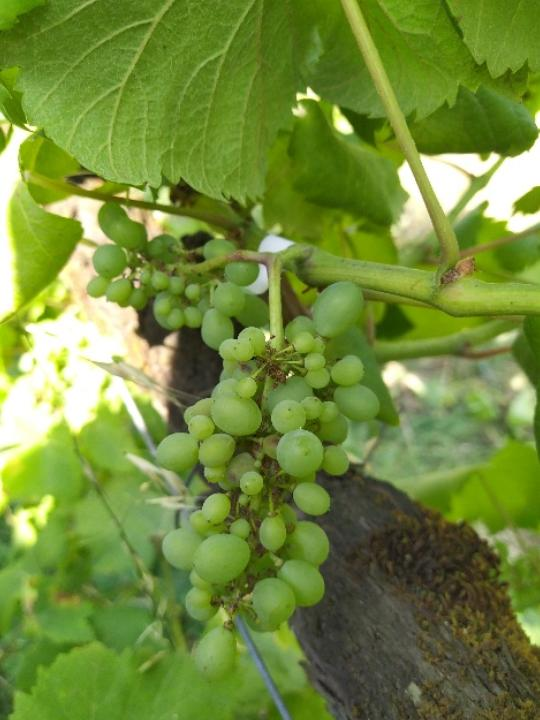grape: (83, 196, 390, 688)
